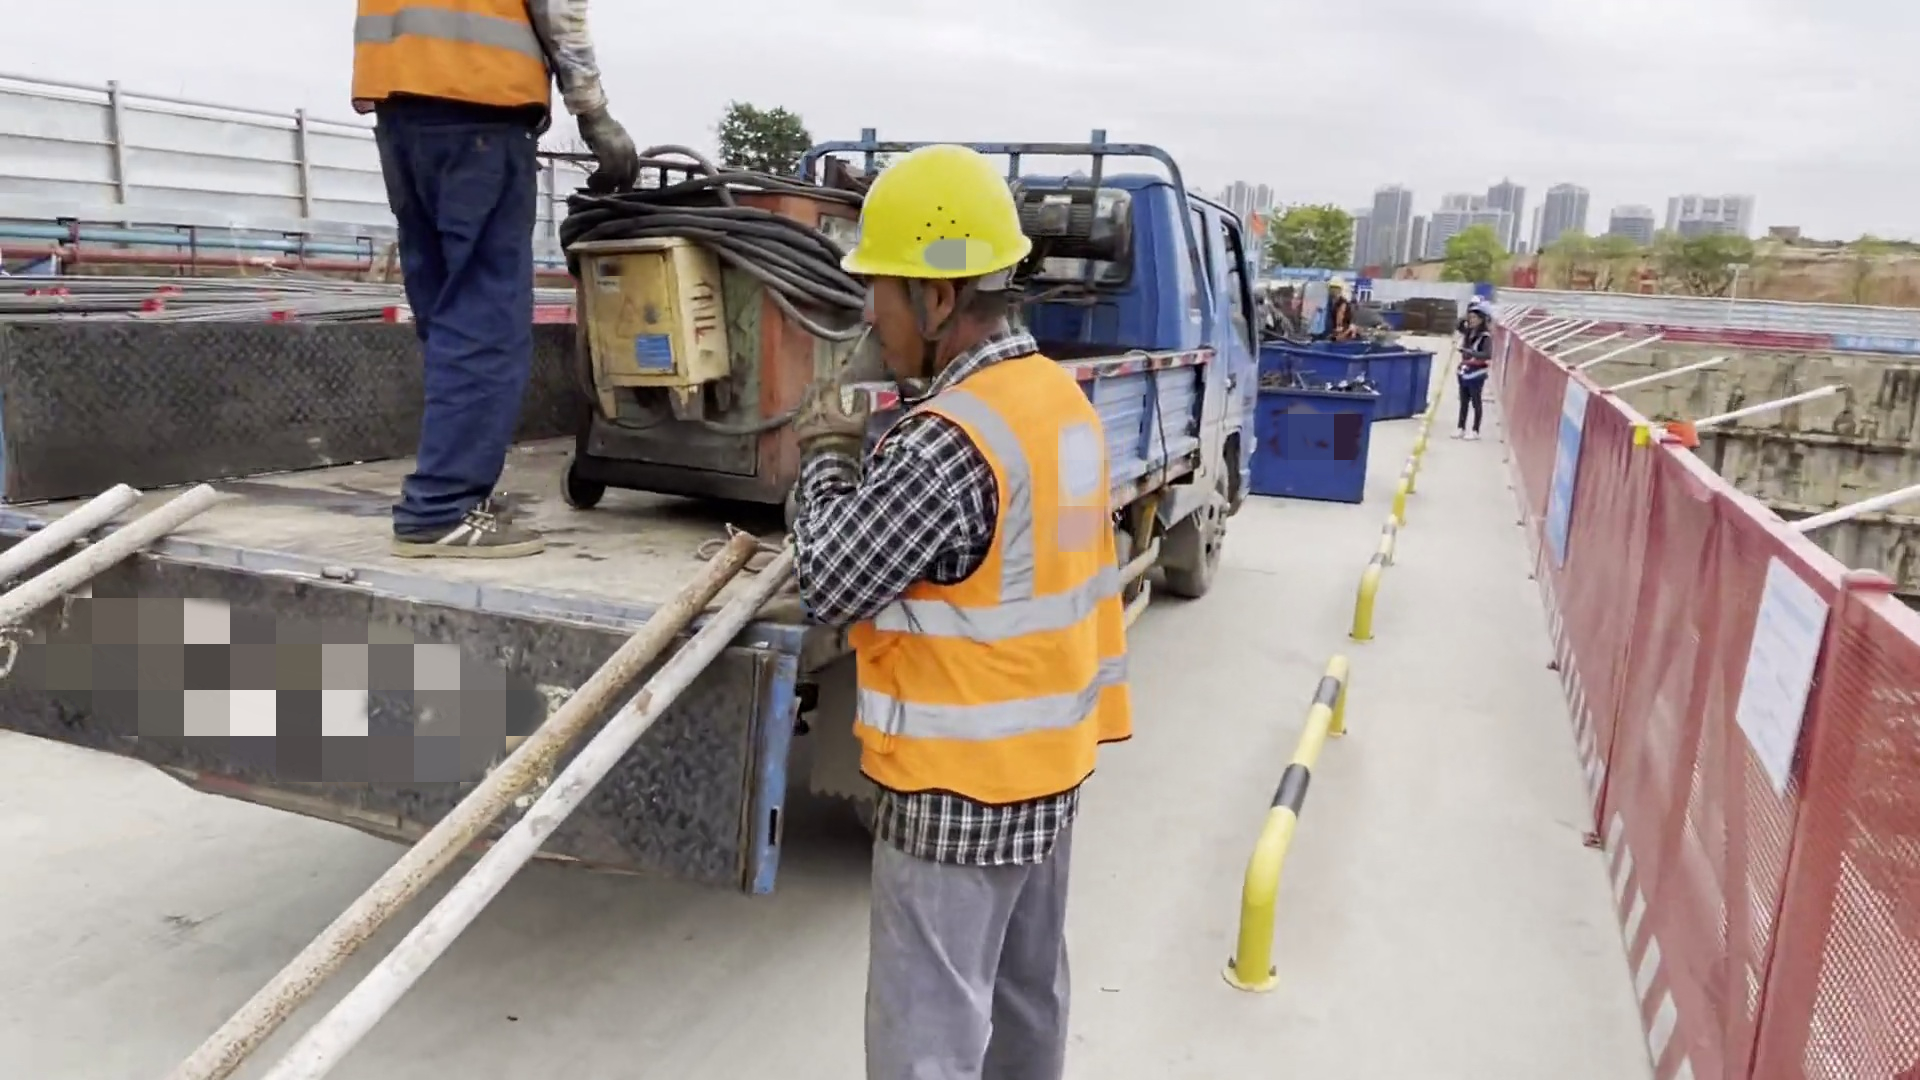ebox: (590, 235, 725, 420)
fence: (1697, 529, 1920, 977), (18, 77, 369, 252)
helmet: (862, 156, 1015, 271), (1470, 302, 1494, 320), (1328, 276, 1345, 288)
hopper: (1246, 378, 1378, 511), (1255, 339, 1431, 419)
person: (798, 150, 1105, 1069), (341, 1, 562, 582), (1454, 294, 1498, 436), (1325, 271, 1355, 353)
slogan: (1545, 371, 1613, 540)
vest: (874, 359, 1099, 840), (366, 1, 546, 125), (1460, 332, 1492, 380), (1326, 297, 1349, 329)
